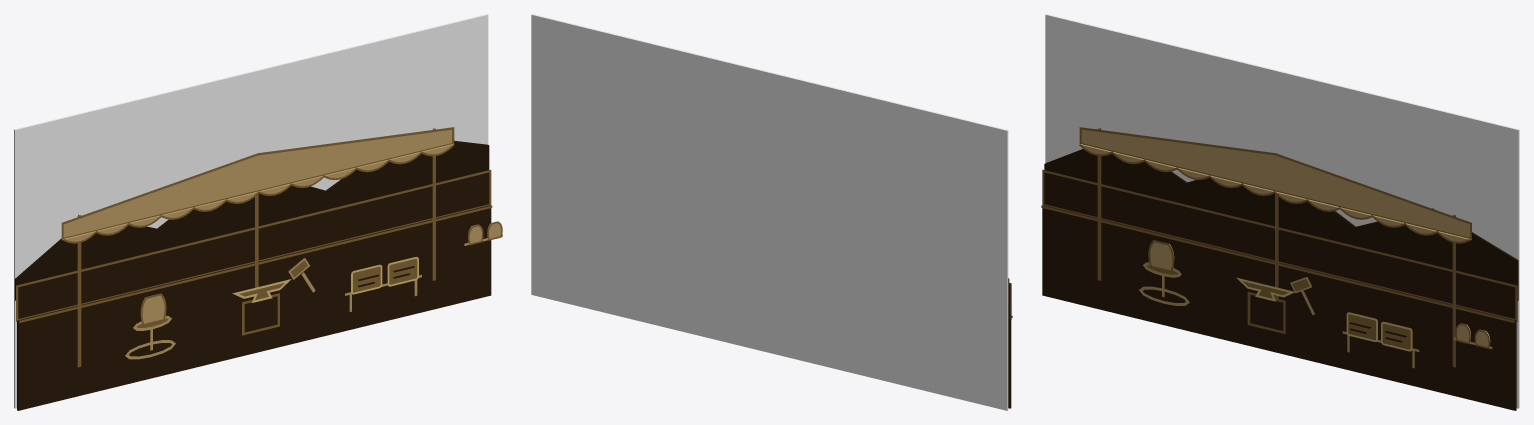
Rendered from loc-shkola-remesel.glb.
The picture shows the model from 3 angles, left to right: view 1: azimuth 30°, elevation 25°; view 2: azimuth 150°, elevation 25°; view 3: azimuth 330°, elevation 25°; orthographic projection.
Parts seen in each view (by area): view 1: loc-shkola-remesel; view 2: loc-shkola-remesel; view 3: loc-shkola-remesel.
Part boxes in pixels (bbox=[...]): loc-shkola-remesel: bbox=[14, 14, 502, 410]; loc-shkola-remesel: bbox=[531, 14, 1012, 410]; loc-shkola-remesel: bbox=[1041, 14, 1519, 410].
Size of the model in its own units: 5.36 by 3 by 0.441.
